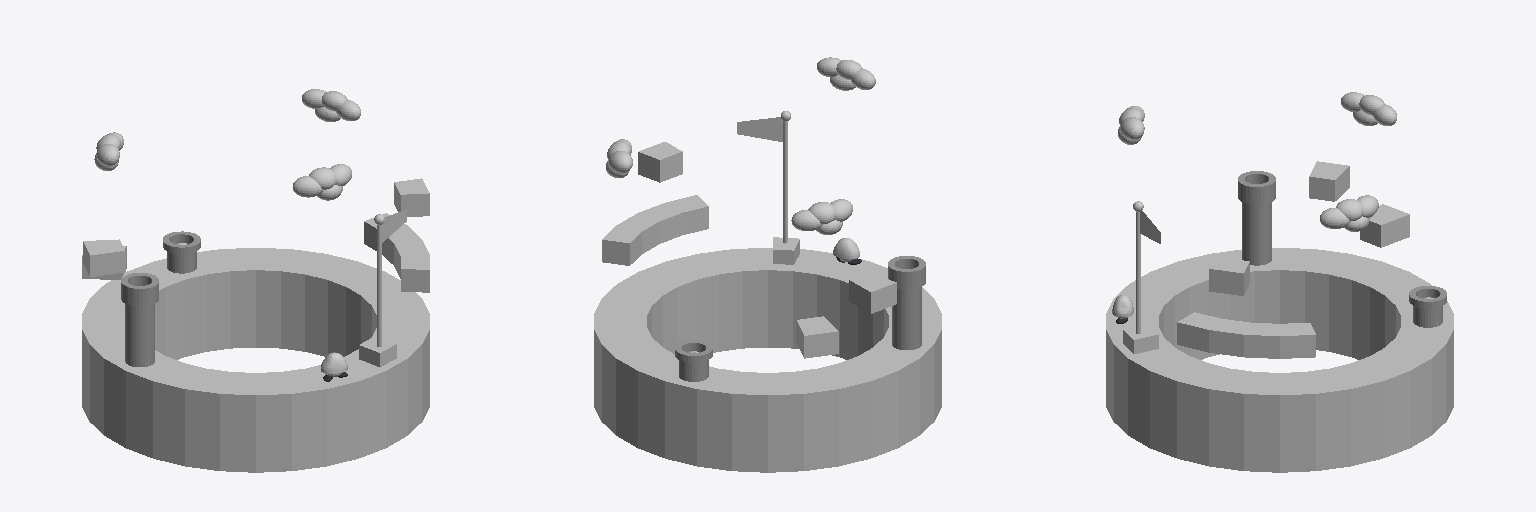
The picture shows the model from 3 angles: view 1: azimuth 30°, elevation 25°; view 2: azimuth 150°, elevation 25°; view 3: azimuth 270°, elevation 25°; orthographic projection.
Visible parts, largest first — view 1: Cube_0, Cylinder.001_0, Cube.001_0, Sphere.006_0, Cube.003_0, Sphere.004_0, Cylinder_0, Cube.002_0, Sphere.003_0, Cube.005_0, Cylinder.002_0, Cube.001_1; view 2: Cube_0, Cube.001_0, Cylinder.001_0, Cube.003_0, Sphere.003_0, Cube.004_0, Cube.002_0, Sphere.006_0, Cylinder_0, Plane_0, Sphere.004_0, Cube.001_1 (+2 smaller); view 3: Cube_0, Cube.001_0, Cylinder.001_0, Cube.004_0, Sphere.004_0, Cube.003_0, Cube.002_0, Sphere.003_0, Cylinder_0, Cube.001_1, Sphere.006_0, Cube.005_0 (+1 smaller).
Boxes of the visible parts, <box> form: Cube_0: <box>82,248,429,472</box>; Cylinder.001_0: <box>121,273,158,366</box>; Cube.001_0: <box>364,213,429,292</box>; Sphere.006_0: <box>293,164,351,200</box>; Cube.003_0: <box>83,239,125,276</box>; Sphere.004_0: <box>302,89,360,121</box>; Cylinder_0: <box>163,231,200,273</box>; Cube.002_0: <box>394,178,429,216</box>; Sphere.003_0: <box>94,132,123,170</box>; Cube.005_0: <box>359,338,396,367</box>; Cylinder.002_0: <box>374,214,384,346</box>; Cube.001_1: <box>382,225,421,264</box>; Cube_0: <box>594,248,941,472</box>; Cube.001_0: <box>602,195,708,265</box>; Cylinder.001_0: <box>888,256,925,349</box>; Cube.003_0: <box>849,272,896,313</box>; Sphere.003_0: <box>791,199,852,234</box>; Cube.004_0: <box>796,316,838,358</box>; Cube.002_0: <box>638,142,682,182</box>; Sphere.006_0: <box>817,57,875,90</box>; Cylinder_0: <box>675,340,712,381</box>; Plane_0: <box>737,117,782,141</box>; Sphere.004_0: <box>606,139,632,177</box>; Cube.001_1: <box>617,213,659,253</box>; Cube_0: <box>1106,248,1453,472</box>; Cube.001_0: <box>1177,312,1315,358</box>; Cylinder.001_0: <box>1238,171,1275,265</box>; Cube.004_0: <box>1360,204,1409,247</box>; Sphere.004_0: <box>1320,195,1378,231</box>; Cube.003_0: <box>1309,161,1349,201</box>; Cube.002_0: <box>1209,257,1249,295</box>; Sphere.003_0: <box>1341,92,1396,125</box>; Cylinder_0: <box>1409,286,1446,327</box>; Cube.001_1: <box>1244,323,1279,358</box>; Sphere.006_0: <box>1118,106,1144,144</box>; Cube.005_0: <box>1123,326,1158,353</box>.
Size of the model in its own units: 6.98 by 6.29 by 6.94.
Materials: 14 (5 with a texture image).